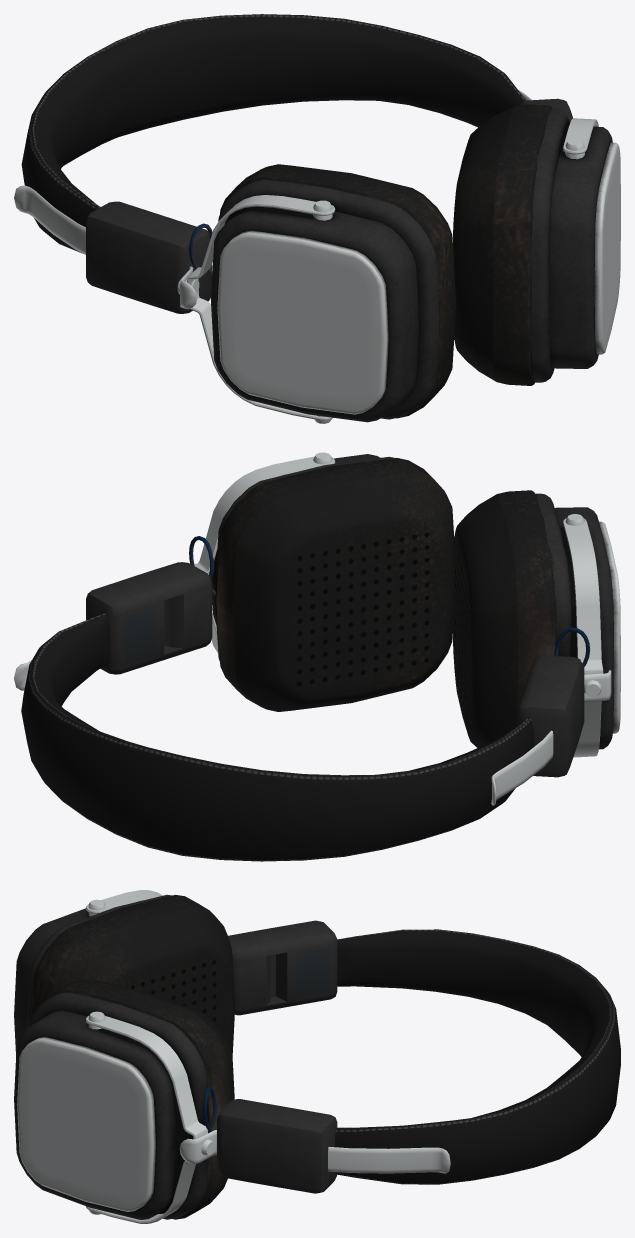
The model's file is headphones_free.glb.
The picture shows the model from 3 angles, top to bottom: view 1: azimuth 30°, elevation 25°; view 2: azimuth 150°, elevation 25°; view 3: azimuth 270°, elevation 25°; orthographic projection. The views are drawn at different scales.
Parts seen in each view (by area): view 1: 003_headfones_low, 001_headfones_low, 002_headfones_low; view 2: 003_headfones_low, 001_headfones_low, 002_headfones_low; view 3: 003_headfones_low, 001_headfones_low, 002_headfones_low.
Boxes of the visible parts, x1=… form: 003_headfones_low: x1=14, y1=89, x2=620, y2=422; 001_headfones_low: x1=21, y1=14, x2=584, y2=423; 002_headfones_low: x1=86, y1=98, x2=598, y2=420; 003_headfones_low: x1=14, y1=454, x2=620, y2=805; 001_headfones_low: x1=21, y1=452, x2=601, y2=861; 002_headfones_low: x1=86, y1=456, x2=603, y2=777; 003_headfones_low: x1=14, y1=894, x2=450, y2=1219; 001_headfones_low: x1=88, y1=899, x2=620, y2=1214; 002_headfones_low: x1=86, y1=890, x2=337, y2=1223.
Size of the model in its own units: 32.96 by 14.75 by 39.52.
1 material, 1 textured.
